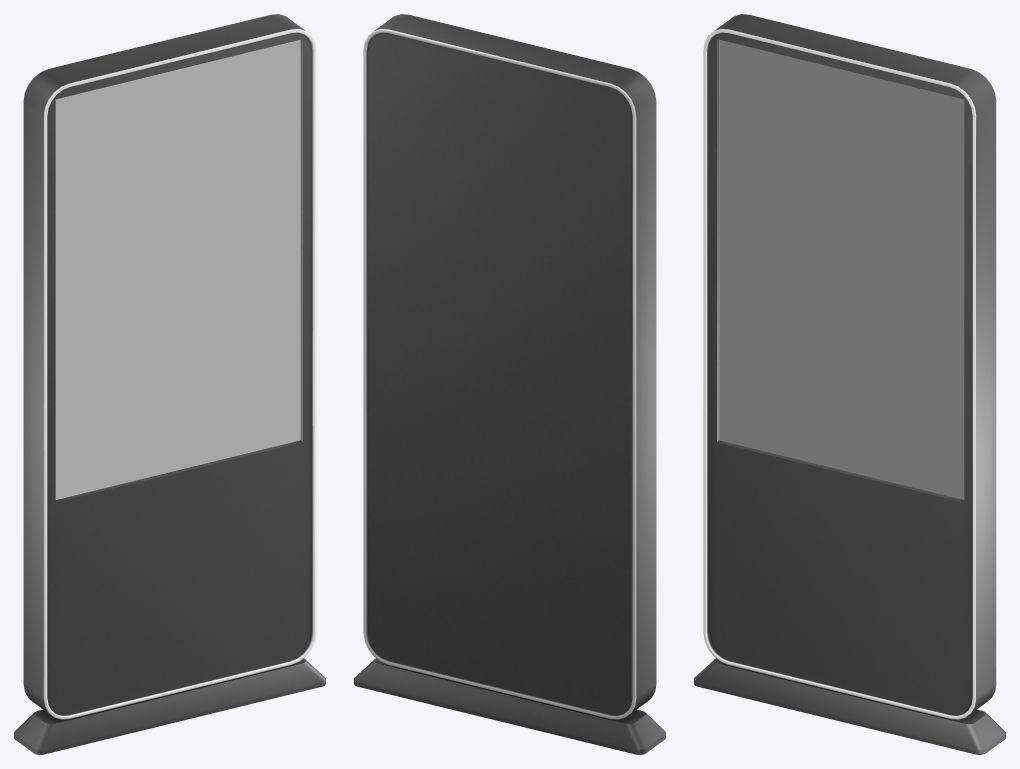
3 views of the same model, side by side, from view 1: azimuth 30°, elevation 25°; view 2: azimuth 150°, elevation 25°; view 3: azimuth 330°, elevation 25° (orthographic).
Visible parts, largest first — view 1: Flat_08011731, Cube.001, Cube; view 2: Cube; view 3: Flat_08011731, Cube.001, Cube.
Part boxes in pixels (bbox=[...]): Flat_08011731: bbox=[55, 39, 300, 499]; Cube.001: bbox=[47, 32, 312, 715]; Cube: bbox=[14, 14, 325, 754]; Cube: bbox=[354, 14, 665, 754]; Flat_08011731: bbox=[719, 39, 964, 499]; Cube.001: bbox=[707, 32, 972, 715]; Cube: bbox=[694, 14, 1005, 754].
Bounding box in the file's own units: 0.8619 × 1.87 × 0.1351.
3 materials, 2 textured.
